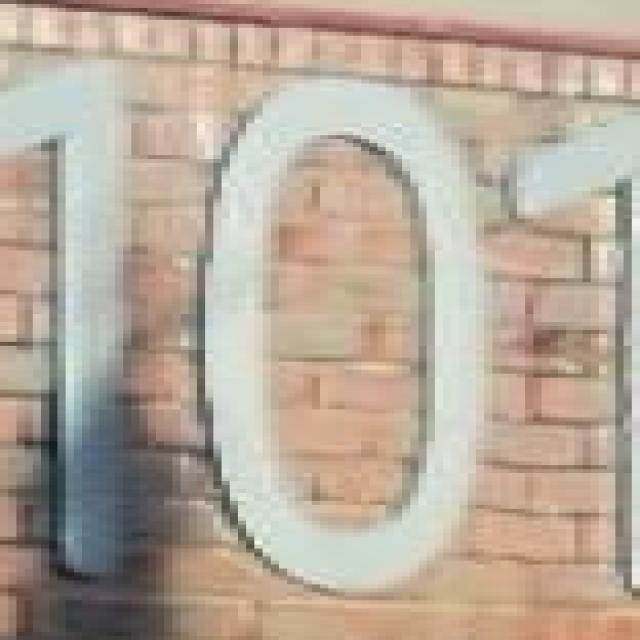character: (192, 74, 497, 606), (0, 52, 160, 594), (496, 98, 640, 612)
